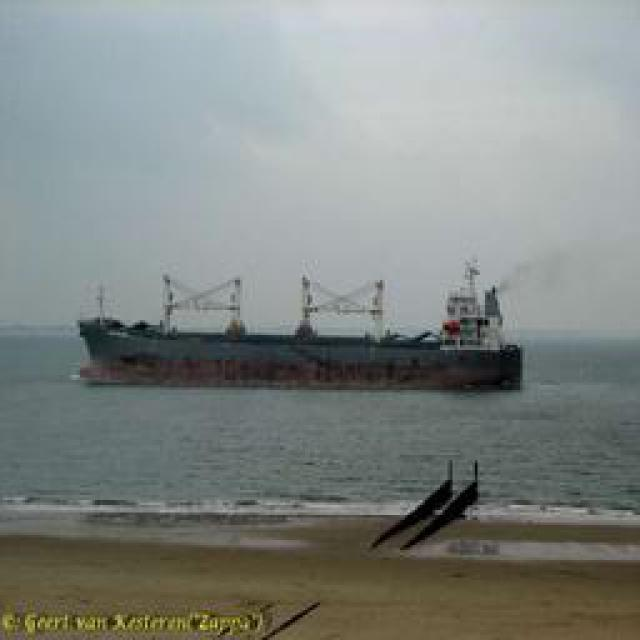Ship: (70, 271, 518, 391)
